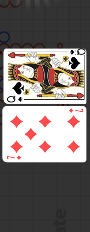7D: (67, 108, 84, 114)
